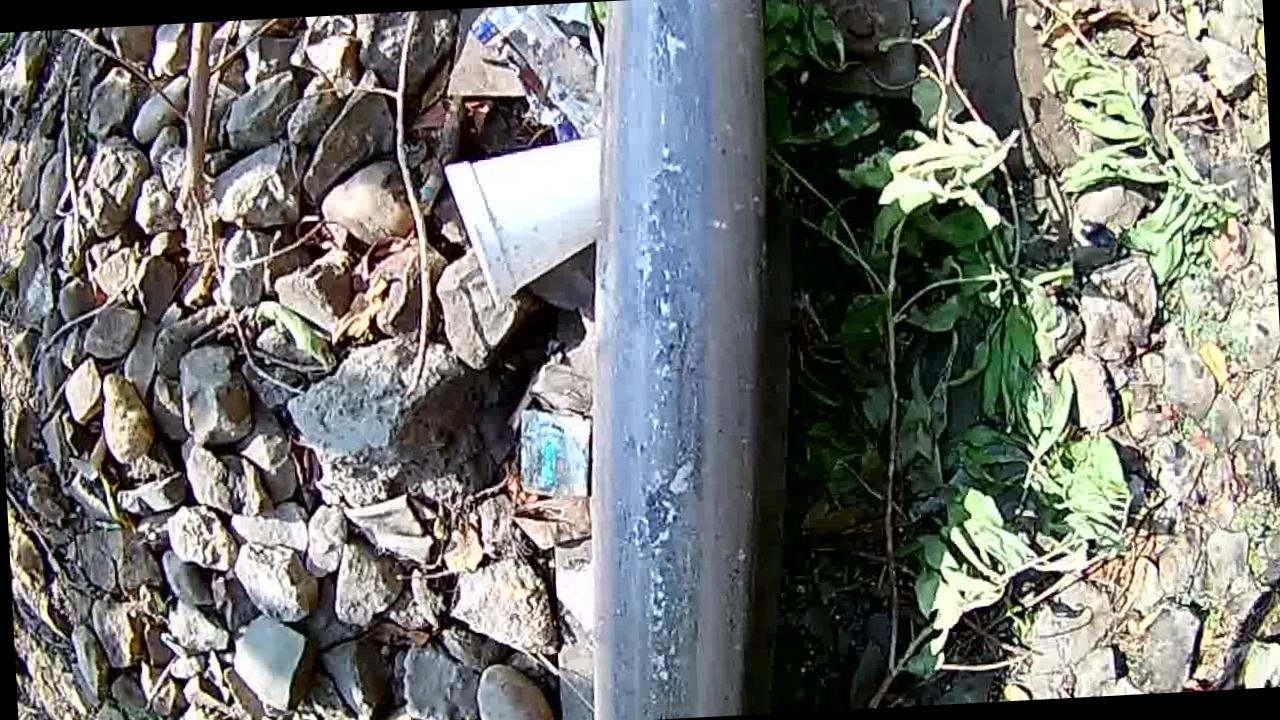crack: (575, 0, 787, 720)
